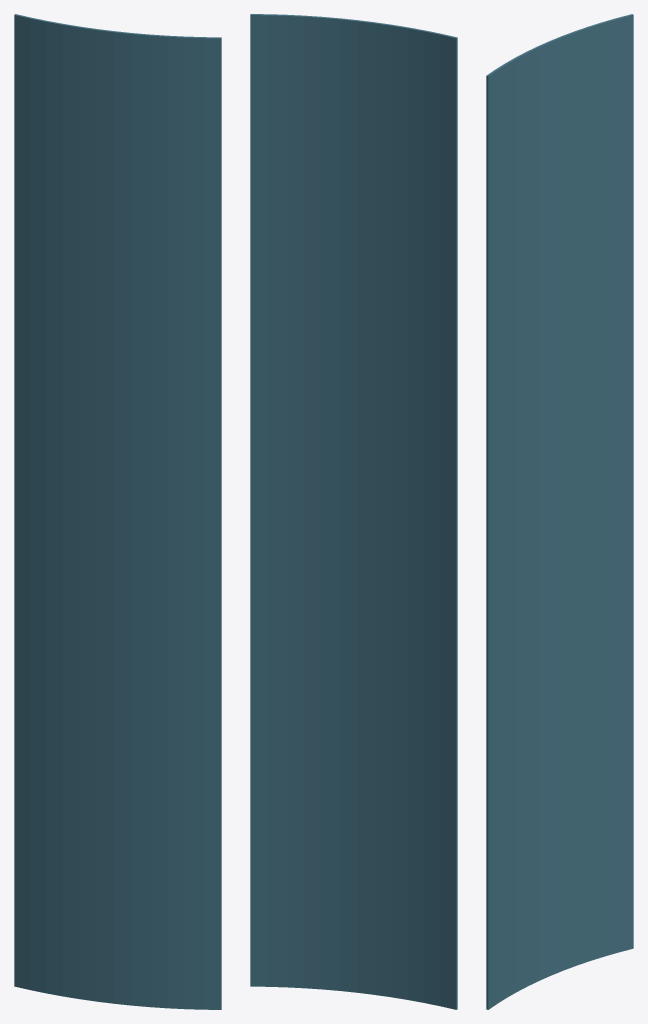
Rendered from SM_Lab_ReactorGlass__Glass_07.fbx.
3 renders of one model, left to right at view 1: azimuth 30°, elevation 25°; view 2: azimuth 210°, elevation 25°; view 3: azimuth 270°, elevation 25°, orthographic. The views are drawn at different scales.
Visible parts, largest first — view 1: SM_Lab_ReactorGlass__Glass_07; view 2: SM_Lab_ReactorGlass__Glass_07; view 3: SM_Lab_ReactorGlass__Glass_07.
Boxes of the visible parts, <box> form: SM_Lab_ReactorGlass__Glass_07: <box>14,14,221,1009</box>; SM_Lab_ReactorGlass__Glass_07: <box>250,14,457,1009</box>; SM_Lab_ReactorGlass__Glass_07: <box>486,14,633,1009</box>.
Size of the model in its own units: 74.68 by 74.68 by 523.
